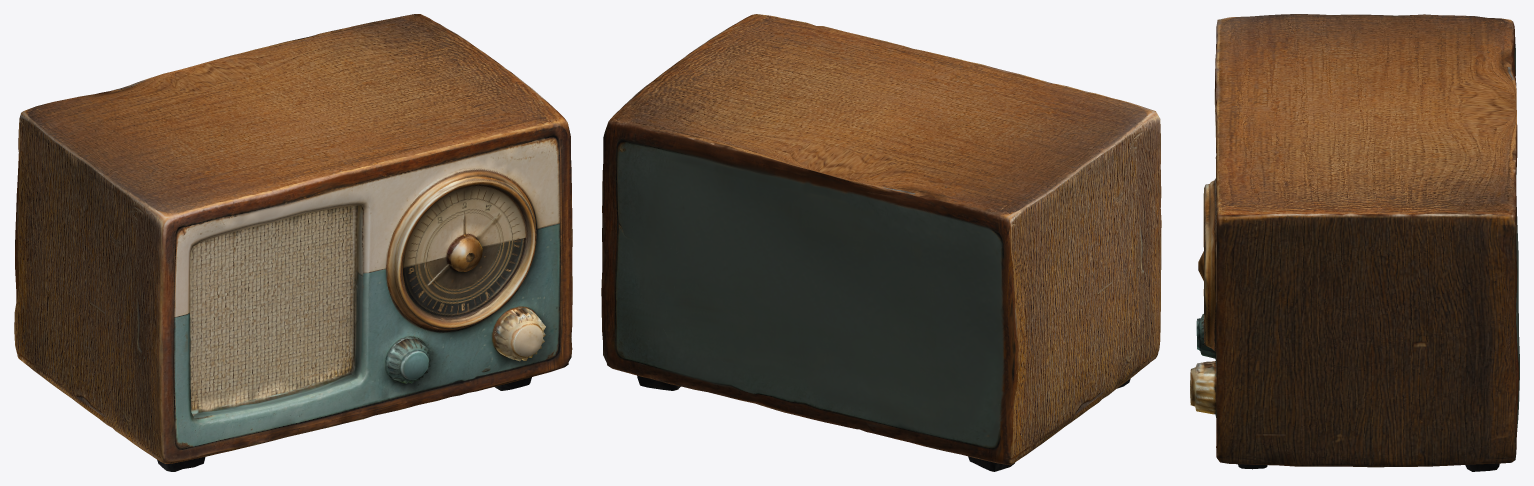
File: prop_radio.fbx
The picture shows the model from 3 angles, left to right: view 1: azimuth 30°, elevation 25°; view 2: azimuth 150°, elevation 25°; view 3: azimuth 270°, elevation 25°; orthographic projection.
Parts seen in each view (by area): view 1: prop_radio; view 2: prop_radio; view 3: prop_radio.
Part boxes in pixels (box(x1,y1,x2,y2)): prop_radio: box(14, 14, 572, 471); prop_radio: box(601, 14, 1161, 471); prop_radio: box(1190, 14, 1519, 471).
Bounding box in the file's own units: 0.3997 × 0.251 × 0.2724.
1 material, 1 textured.
